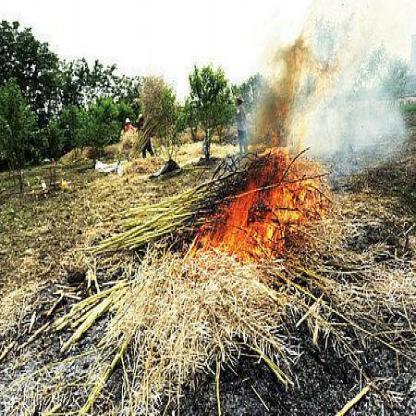fire: (190, 149, 327, 254)
